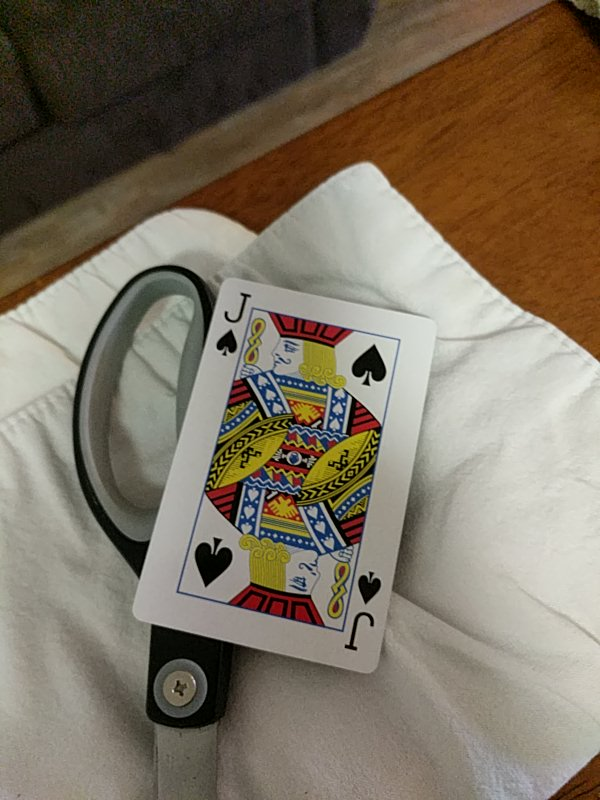Spades: (131, 278, 438, 678)
